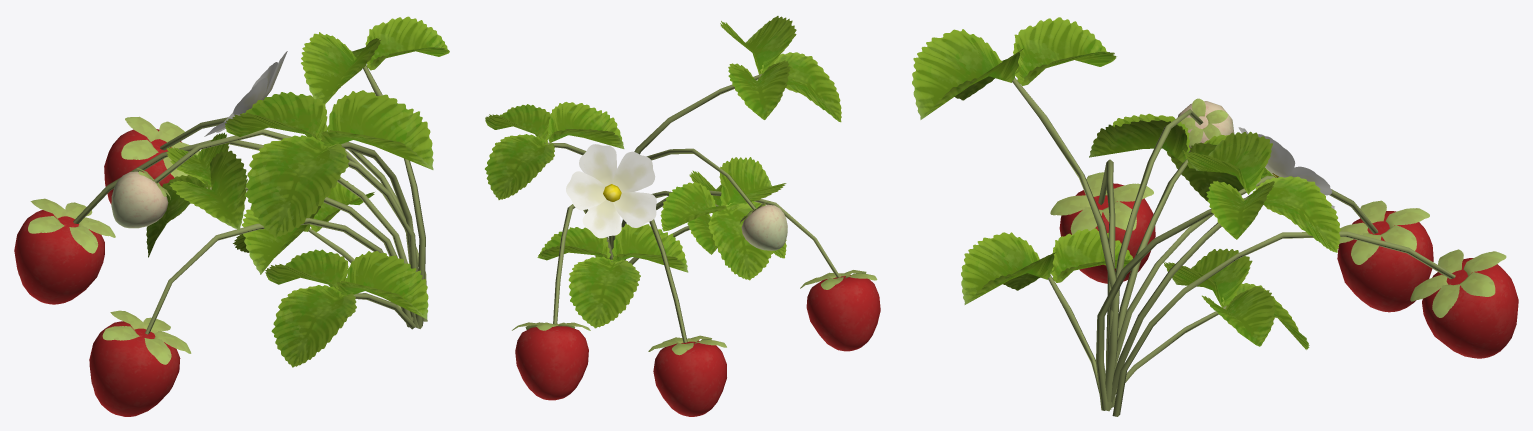
Rendered from Strawberry_mature.fbx.
The picture shows the model from 3 angles, left to right: view 1: azimuth 30°, elevation 25°; view 2: azimuth 150°, elevation 25°; view 3: azimuth 270°, elevation 25°; orthographic projection. The views are drawn at different scales.
Parts seen in each view (by area): view 1: Strawberry_mature; view 2: Strawberry_mature; view 3: Strawberry_mature.
Boxes of the visible parts, <box> form: Strawberry_mature: <box>14,16,449,416</box>; Strawberry_mature: <box>485,16,880,416</box>; Strawberry_mature: <box>912,17,1518,416</box>.
Size of the model in its own units: 27.13 by 19.27 by 32.41.
